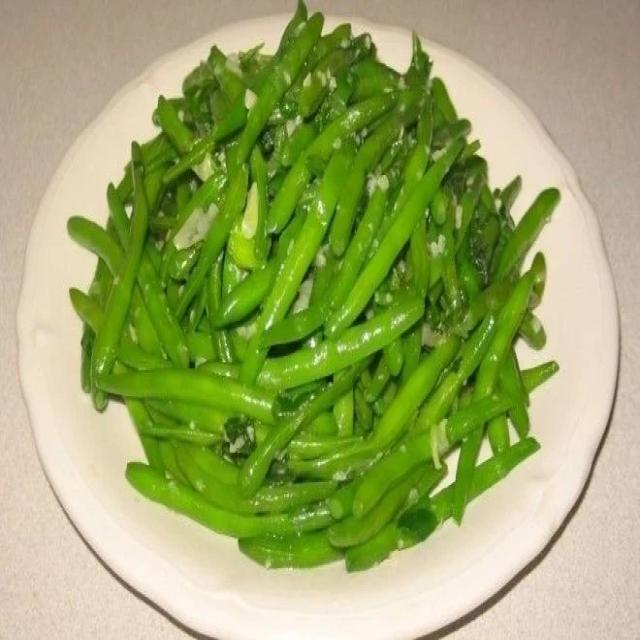dau que: (68, 0, 560, 569)
